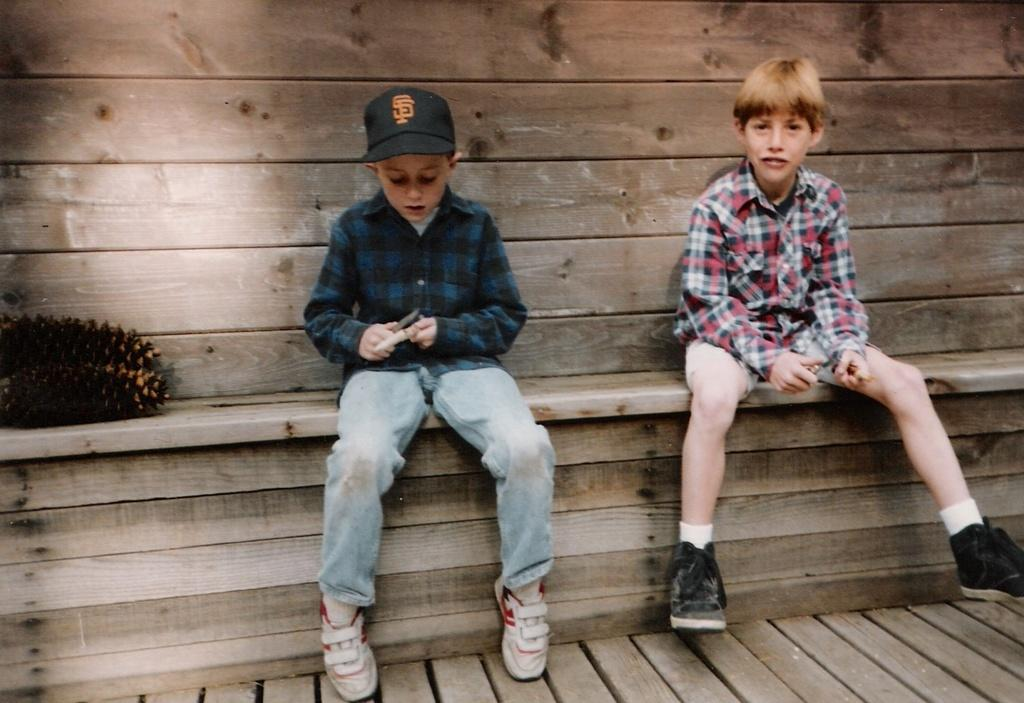Hat: (361, 82, 456, 166)
